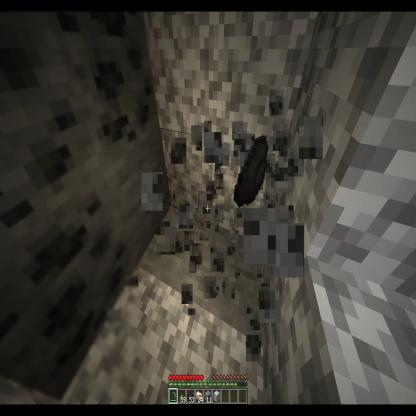coal ore: (0, 188, 138, 402), (0, 0, 90, 231), (72, 0, 158, 169)
